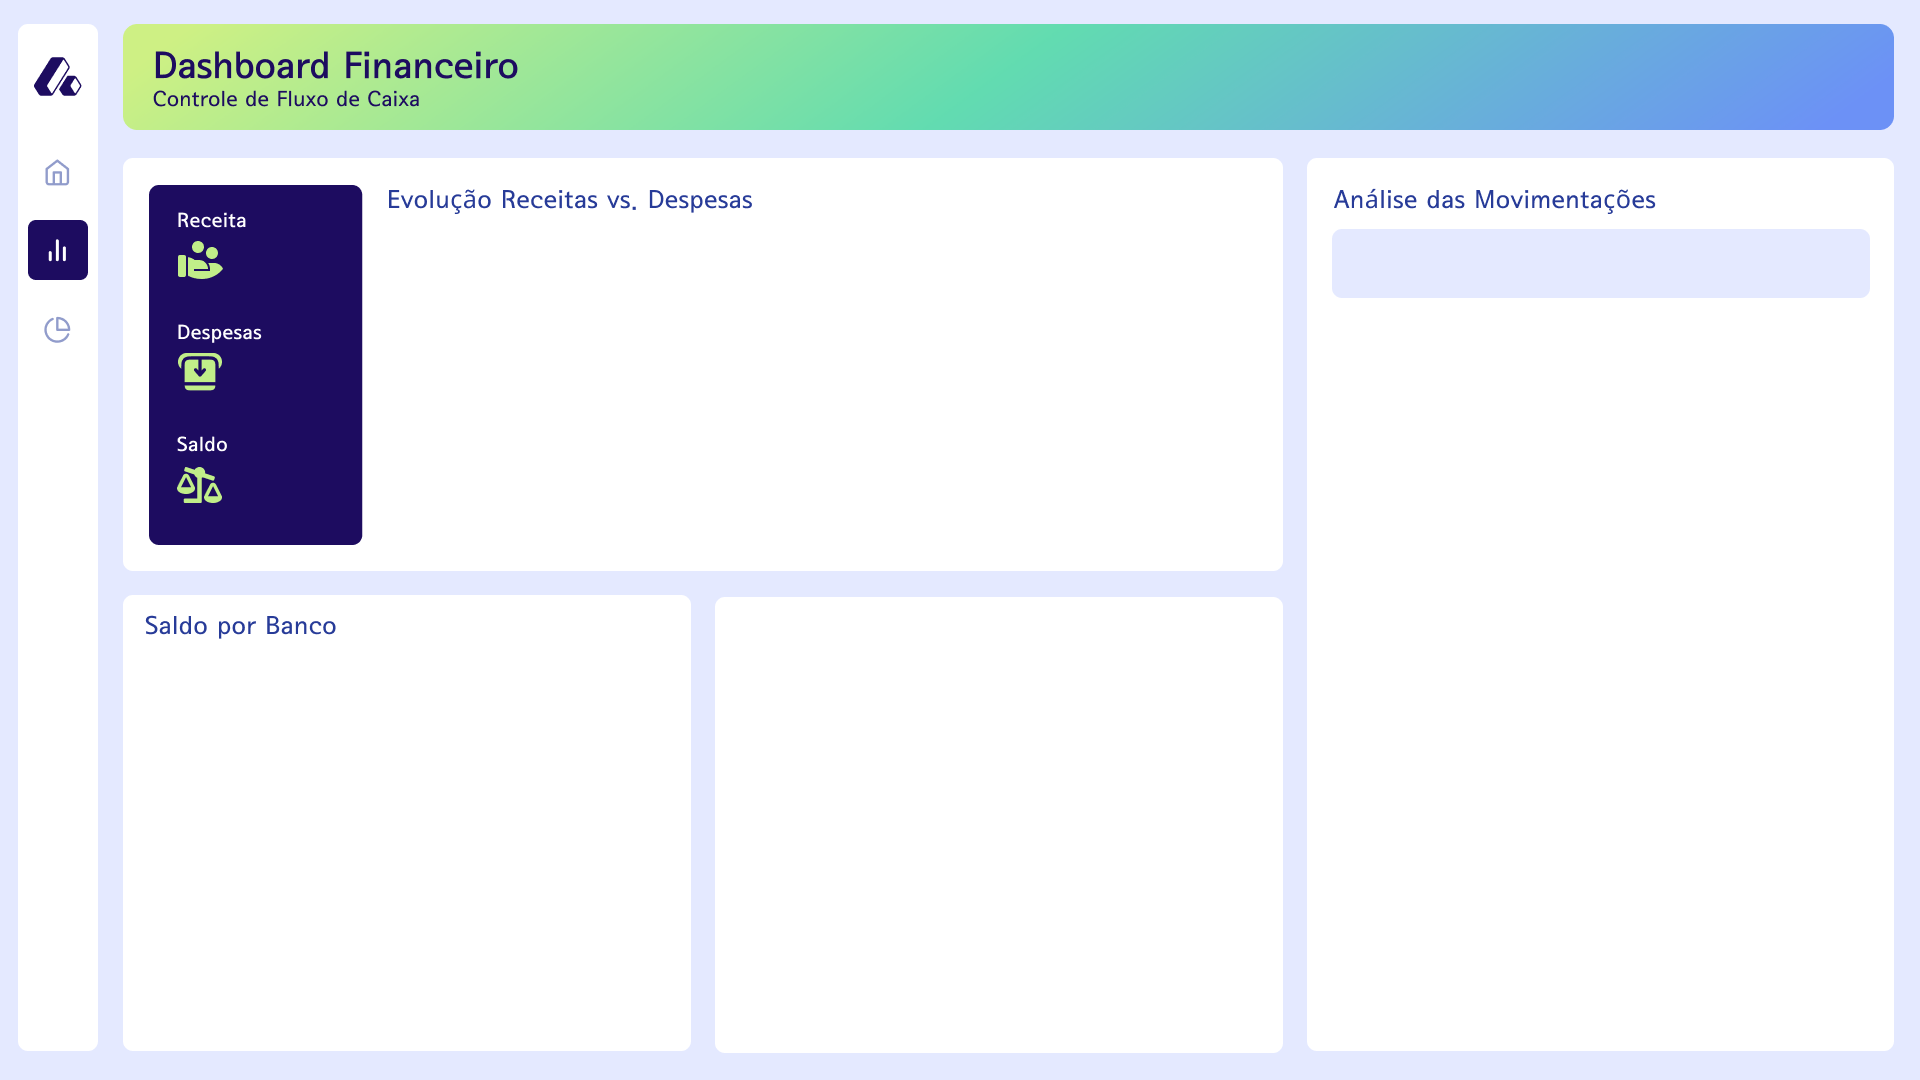

What the dashboard file says about the page in this screenshot:
{"tool":"powerbi","page":{"name":"Dashboard","canvas":[1280,720],"ordinal":1},"visuals":[{"type":"card","fields":{"Values":["Medidas.Receita"]},"box":[145,156,93,39],"z":0},{"type":"card","fields":{"Values":["Medidas.Despesas"]},"box":[145,232,93,39],"z":1000},{"type":"card","fields":{"Values":["Medidas.Saldo"]},"box":[145,306,93,39],"z":2000},{"type":"columnChart","fields":{"Category":["Bancos.Banco"],"Y":["Medidas.Saldo"]},"box":[86,434,368,258],"z":3000},{"type":"areaChart","fields":{"Y":["Medidas.Receita","Medidas.Despesas"],"Category":["Calendario.Data.Variation.Hierarquia de datas.Ano","Calendario.Data.Variation.Hierarquia de datas.Trimestre","Calendario.Data.Variation.Hierarquia de datas.Mês","Calendario.Data.Variation.Hierarquia de datas.Dia"]},"box":[252,143,590,217],"z":4000},{"type":"pivotTable","fields":{"Rows":["Cadastro.Tipo","Cadastro.Categoria","Cadastro.Natureza"],"Values":["Medidas.Saldo"]},"box":[482,405,369,288],"z":5000},{"type":"slicer","fields":{"Values":["Parâmetro.Parâmetro"]},"box":[894,153,347,47],"z":6000},{"type":"clusteredBarChart","fields":{"Category":["Cadastro.Categoria","Cadastro.Natureza"],"Y":["Medidas.Saldo"]},"box":[881,221,372,471],"z":7000},{"type":"actionButton","box":[21,99,34,31],"z":8000}]}

Visuals, with their boxes on the page's 1280x720 design canvas (x1, y1, x2, y2). These are canvas units, not pixel positions in the 1920x1080 screenshot, which may show the page scaled, cropped or inside an application window:
card - Medidas.Receita: (145, 156, 238, 195)
card - Medidas.Despesas: (145, 232, 238, 271)
card - Medidas.Saldo: (145, 306, 238, 345)
columnChart - Bancos.Banco x Medidas.Saldo: (86, 434, 454, 692)
areaChart - Medidas.Receita x Medidas.Despesas: (252, 143, 842, 360)
pivotTable - Cadastro.Tipo x Cadastro.Categoria: (482, 405, 851, 693)
slicer - Parâmetro.Parâmetro: (894, 153, 1241, 200)
clusteredBarChart - Cadastro.Categoria x Cadastro.Natureza: (881, 221, 1253, 692)
actionButton: (21, 99, 55, 130)
